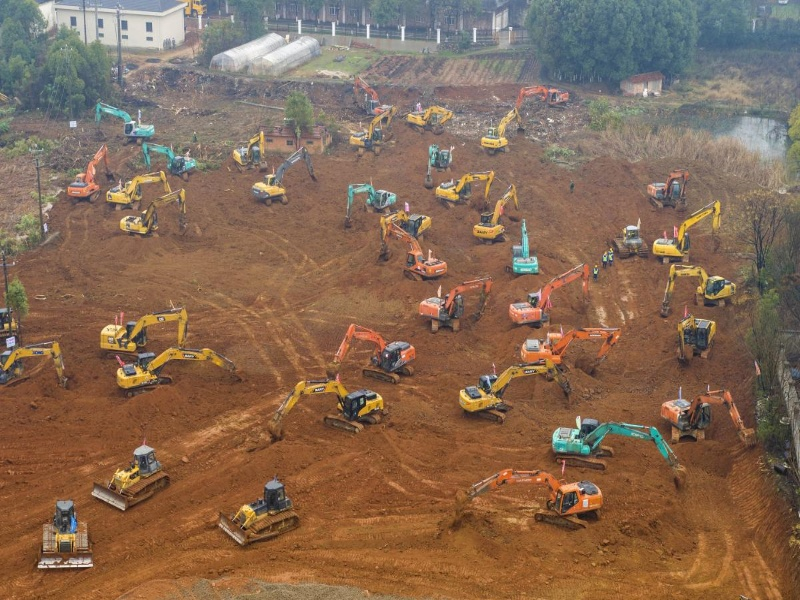excavator: (554, 416, 691, 492), (450, 467, 607, 531), (269, 375, 385, 446), (455, 359, 577, 426), (112, 348, 246, 401), (660, 387, 756, 452), (324, 321, 419, 385), (505, 260, 594, 328), (94, 308, 193, 364), (521, 324, 624, 373), (655, 264, 738, 321), (652, 201, 723, 267), (249, 145, 320, 209), (414, 277, 495, 333), (378, 224, 450, 281), (118, 185, 188, 241), (468, 184, 524, 248), (65, 147, 112, 210), (92, 101, 159, 143), (477, 107, 525, 158), (347, 108, 393, 161), (435, 166, 493, 208), (340, 179, 394, 224), (140, 141, 201, 179), (230, 128, 272, 179), (509, 220, 544, 277), (518, 83, 575, 116), (404, 103, 455, 137)
